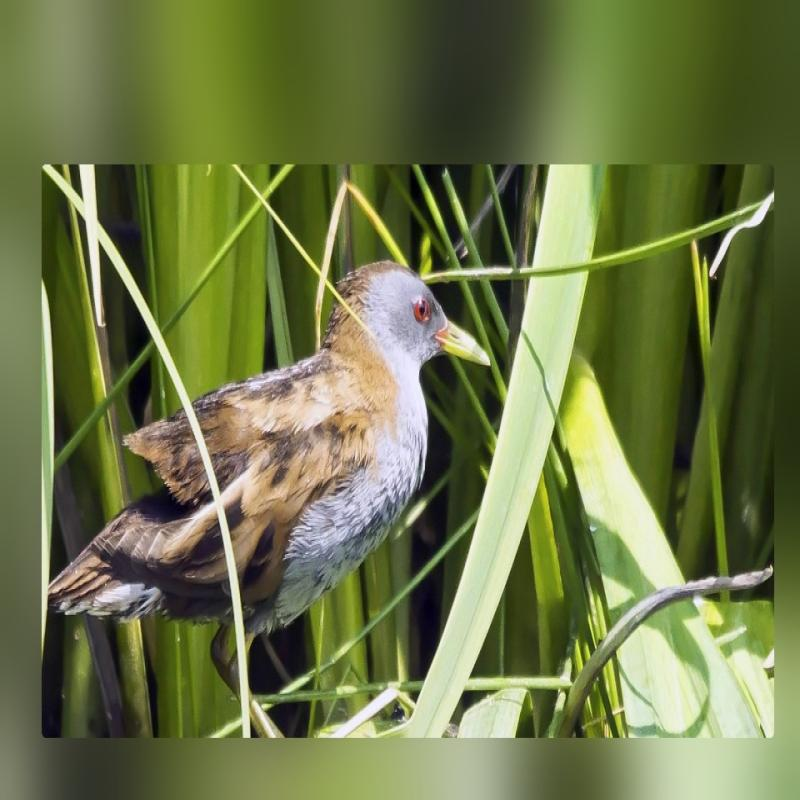little crake: (45, 253, 500, 662)
